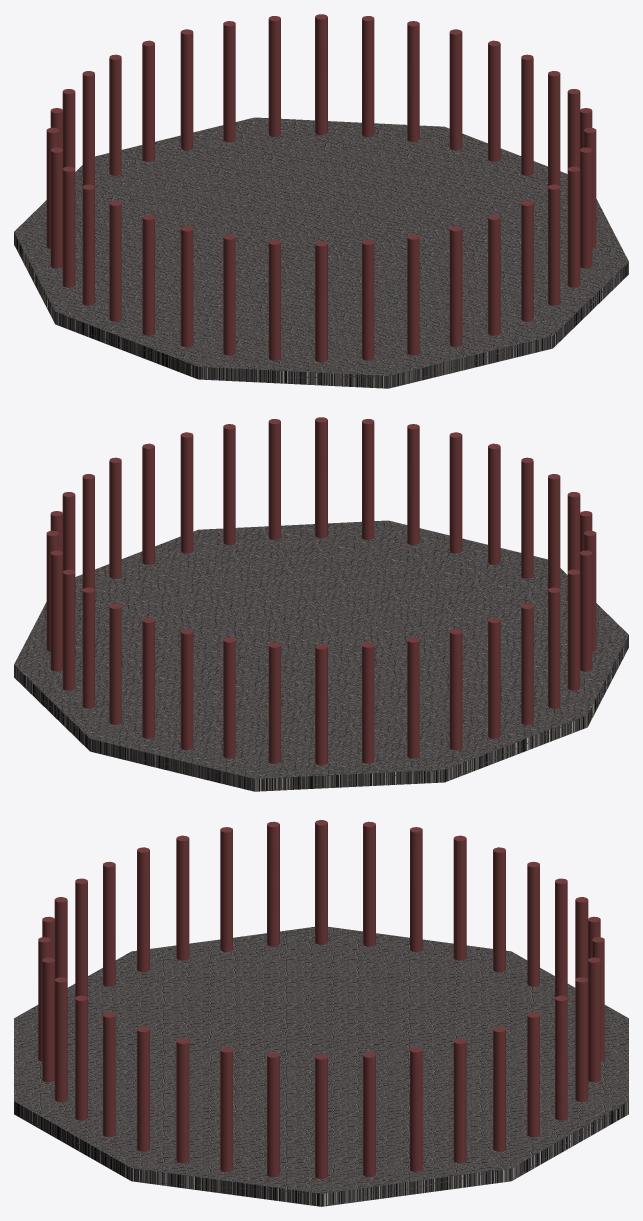
Rendered from stage.fbx.
3 views of the same model, one above another, from view 1: azimuth 30°, elevation 25°; view 2: azimuth 150°, elevation 25°; view 3: azimuth 270°, elevation 25° (orthographic). The views are drawn at different scales.
Visible parts, largest first — view 1: pCylinder1, pCylinder10, pCylinder14, pCylinder20, pCylinder24, pCylinder2, pCylinder32, pCylinder15, pCylinder19, pCylinder11, pCylinder17, pCylinder23 (+23 smaller); view 2: pCylinder1, pCylinder2, pCylinder8, pCylinder12, pCylinder34, pCylinder20, pCylinder26, pCylinder3, pCylinder7, pCylinder5, pCylinder11, pCylinder23 (+23 smaller); view 3: pCylinder1, pCylinder26, pCylinder32, pCylinder8, pCylinder14, pCylinder22, pCylinder36, pCylinder7, pCylinder15, pCylinder21, pCylinder37, pCylinder23 (+23 smaller).
Boxes of the visible parts, <box> form: pCylinder1: <box>14,117,628,388</box>; pCylinder10: <box>62,166,75,287</box>; pCylinder14: <box>180,226,193,347</box>; pCylinder20: <box>449,226,462,347</box>; pCylinder24: <box>567,166,580,287</box>; pCylinder2: <box>180,29,193,150</box>; pCylinder32: <box>449,29,462,150</box>; pCylinder15: <box>223,234,235,355</box>; pCylinder19: <box>407,234,419,355</box>; pCylinder11: <box>82,184,94,305</box>; pCylinder17: <box>315,241,327,362</box>; pCylinder23: <box>548,184,560,305</box>; pCylinder1: <box>14,520,628,791</box>; pCylinder2: <box>180,629,193,750</box>; pCylinder8: <box>449,629,462,750</box>; pCylinder12: <box>567,569,580,690</box>; pCylinder34: <box>62,569,75,690</box>; pCylinder20: <box>449,432,462,553</box>; pCylinder26: <box>180,432,193,553</box>; pCylinder3: <box>223,637,235,758</box>; pCylinder7: <box>407,637,419,758</box>; pCylinder5: <box>315,644,327,765</box>; pCylinder11: <box>548,587,560,708</box>; pCylinder23: <box>315,417,327,538</box>; pCylinder1: <box>14,926,628,1206</box>; pCylinder26: <box>176,1038,189,1163</box>; pCylinder32: <box>453,1038,466,1163</box>; pCylinder8: <box>453,835,466,960</box>; pCylinder14: <box>176,835,189,960</box>; pCylinder22: <box>54,977,67,1101</box>; pCylinder36: <box>575,977,588,1101</box>; pCylinder7: <box>493,847,505,972</box>; pCylinder15: <box>137,847,149,972</box>; pCylinder21: <box>42,957,54,1082</box>; pCylinder37: <box>588,957,600,1082</box>; pCylinder23: <box>75,995,87,1120</box>.
Size of the model in its own units: 96.76 by 22.43 by 93.89.
